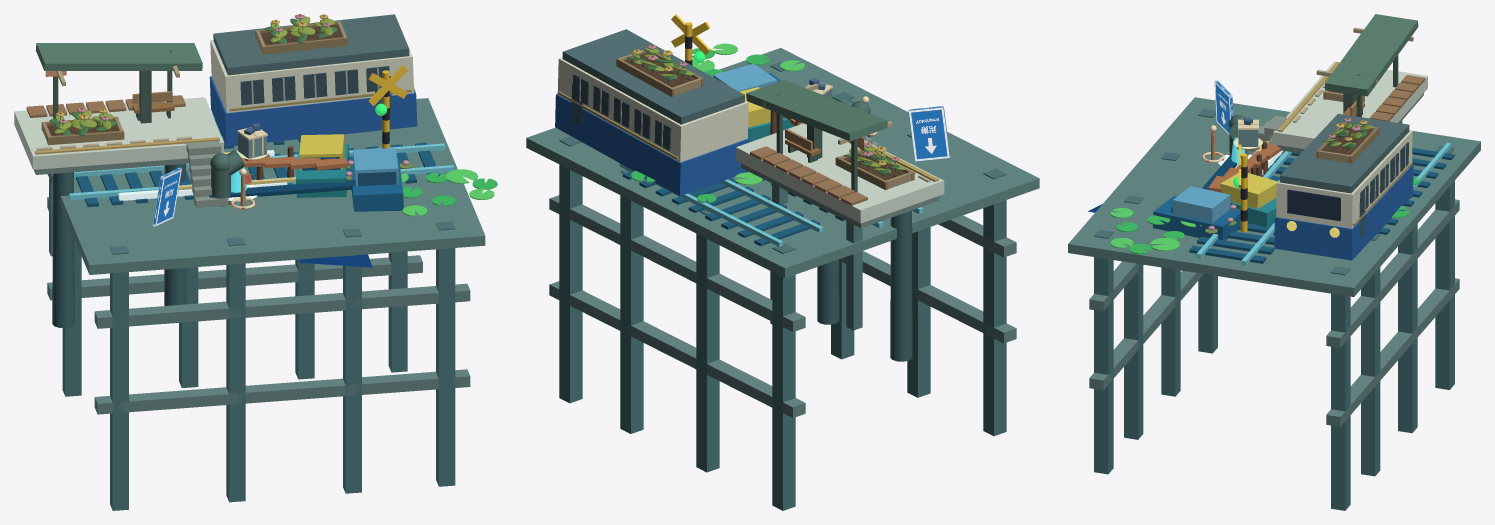
The model's file is zone2_yokohama_station.glb.
3 renders of one model, left to right at view 1: azimuth 30°, elevation 25°; view 2: azimuth 150°, elevation 25°; view 3: azimuth 270°, elevation 25°, orthographic. The views are drawn at different scales.
Parts seen in each view (by area): view 1: zone2_yokohama_station; view 2: zone2_yokohama_station; view 3: zone2_yokohama_station.
Boxes of the visible parts, box(x1,y1,x2,y2) form: zone2_yokohama_station: box(14, 14, 497, 510); zone2_yokohama_station: box(526, 14, 1039, 510); zone2_yokohama_station: box(1068, 14, 1480, 510).
Bounding box in the file's own units: 20.77 × 17.4 × 18.98.
Materials: 7 (1 with a texture image).
